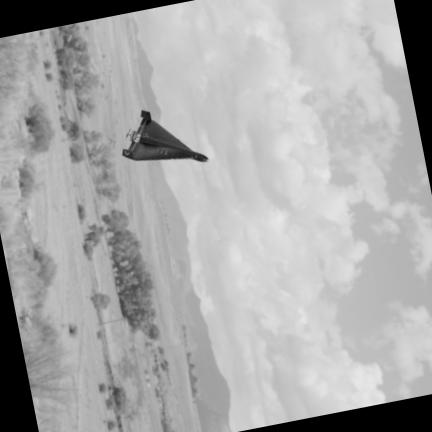Shahed: (121, 110, 209, 163)
